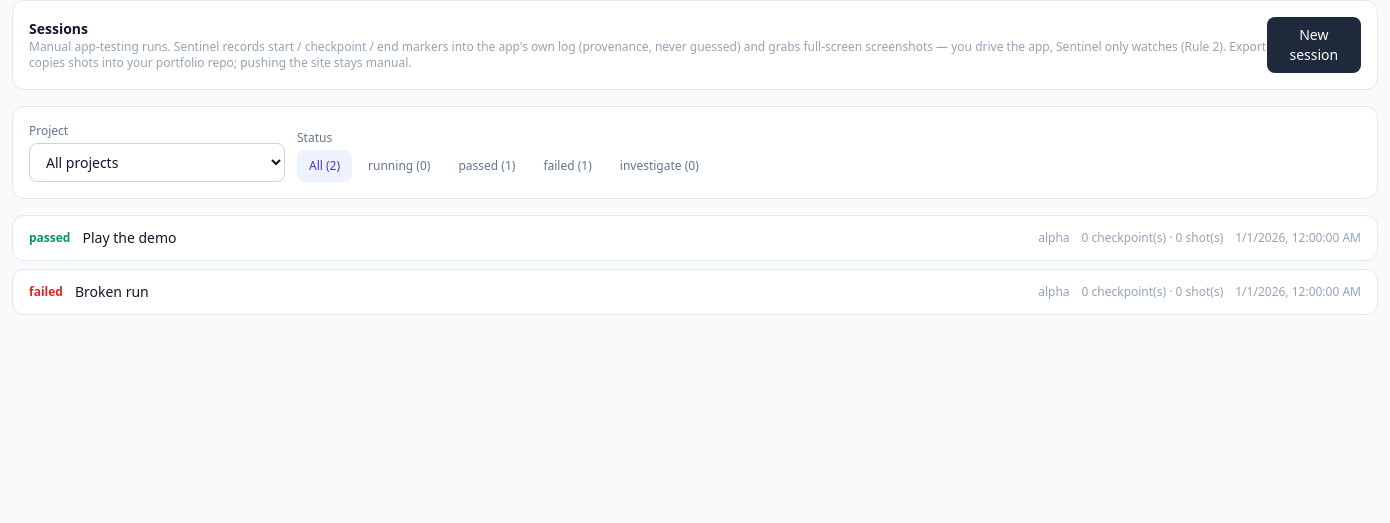
Test case: Sessions › shows the triage button only for failed/investigate sessions
Click the text "Play the demo".
click(130, 238)  # box 82,228 -> 176,247
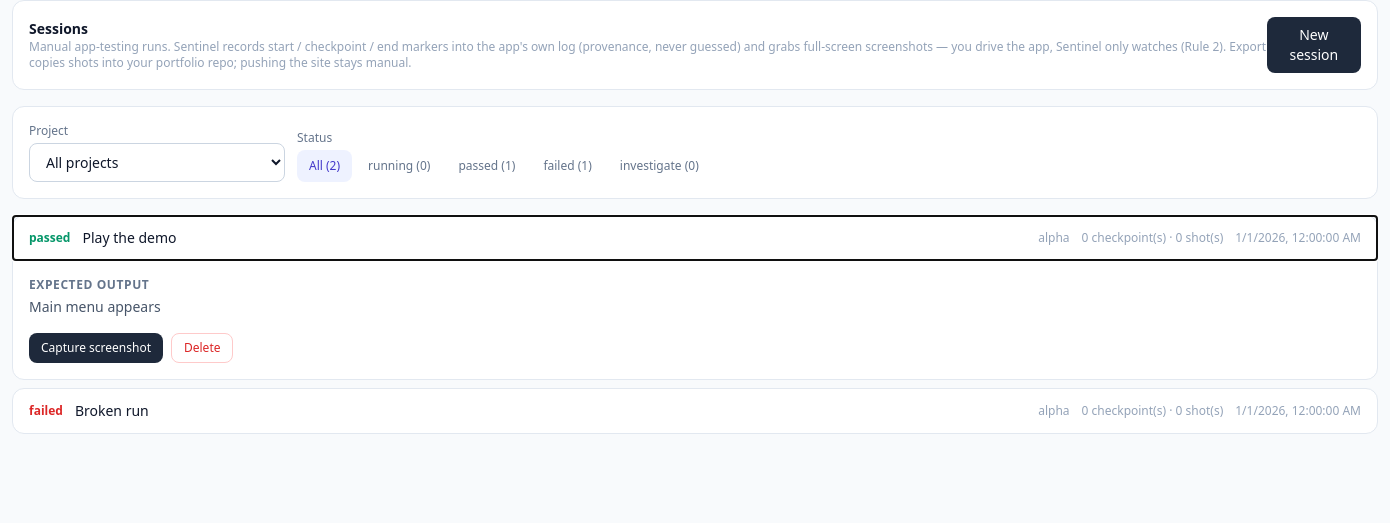
Expected: the button "Triage failure" is not shown
Click the text "Broken run".
click(112, 410)  # box 75,401 -> 149,420
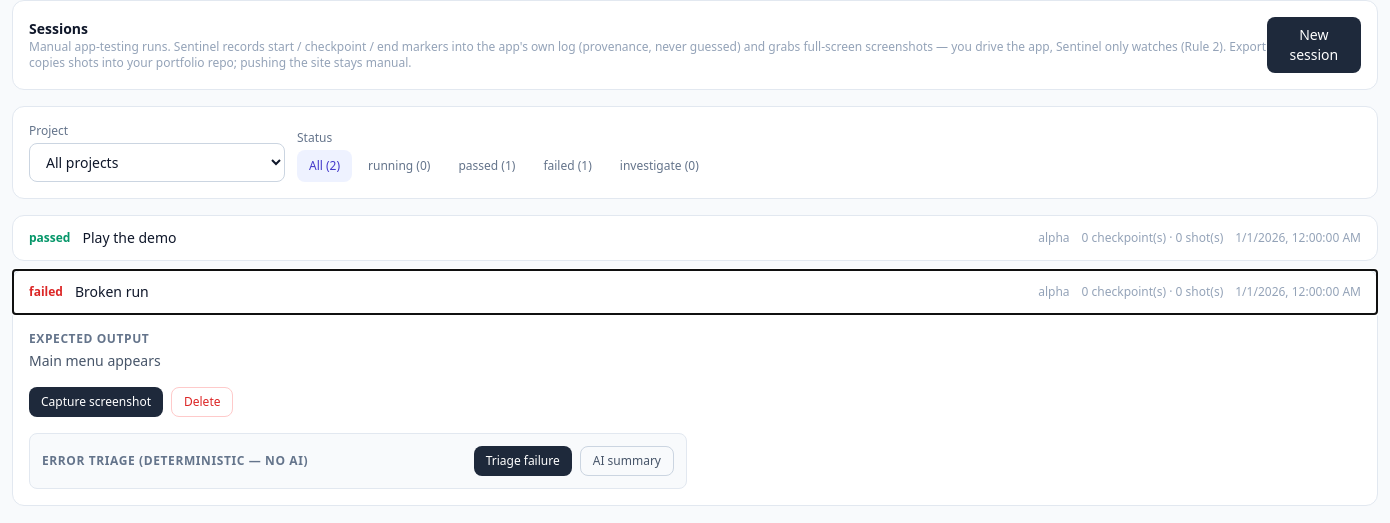
Now the button "Triage failure" is shown, box 474,446 -> 572,476
